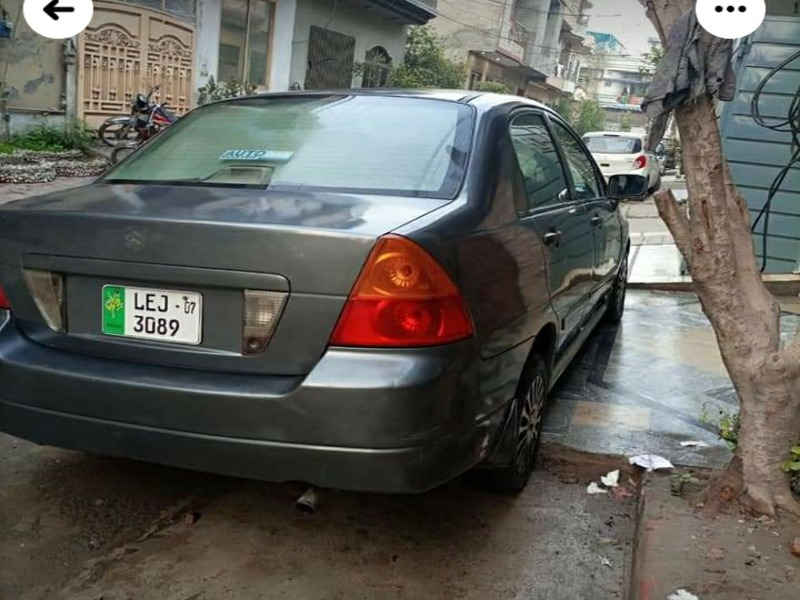License Plate: (94, 281, 205, 351)
